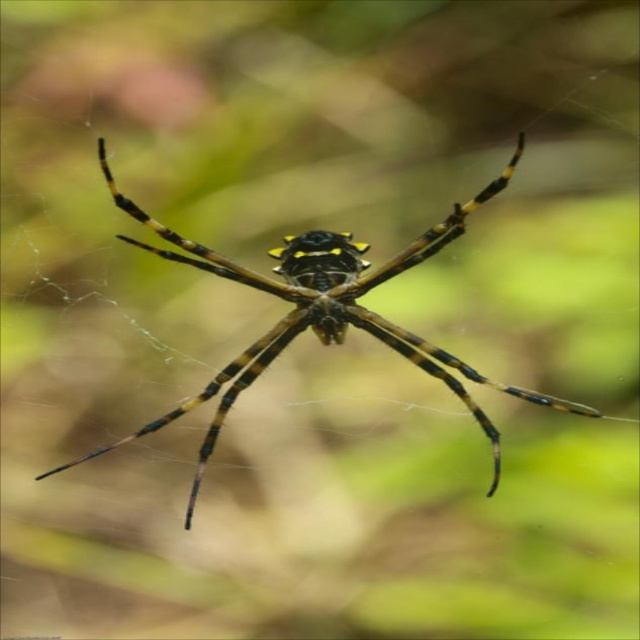Spider: (35, 131, 605, 531)
